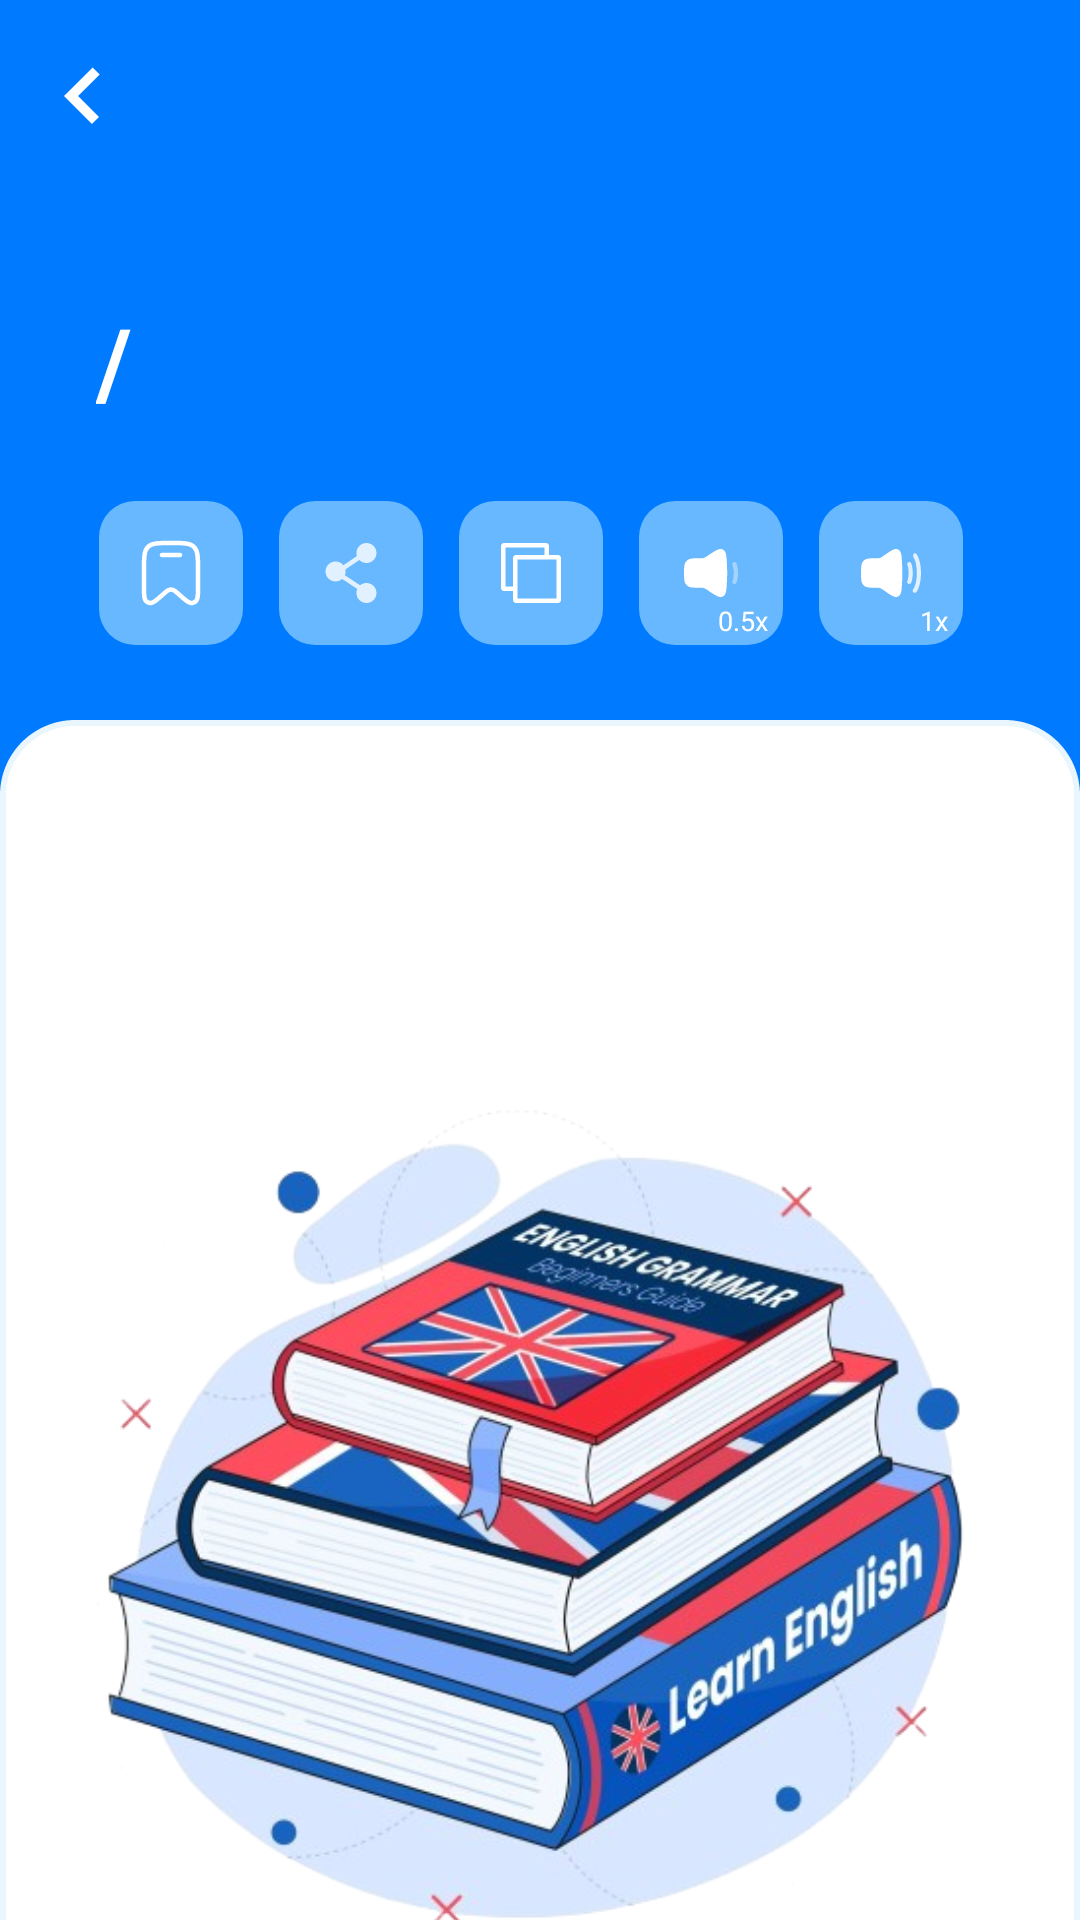

Icons on this 1080x1920 Android screen, each with the point to tap as [x,y]:
bookmark: [171,573]
share: [351,573]
volume: [711,573]
volume loud: [891,573]
